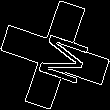M_W: (24, 25, 86, 85)
